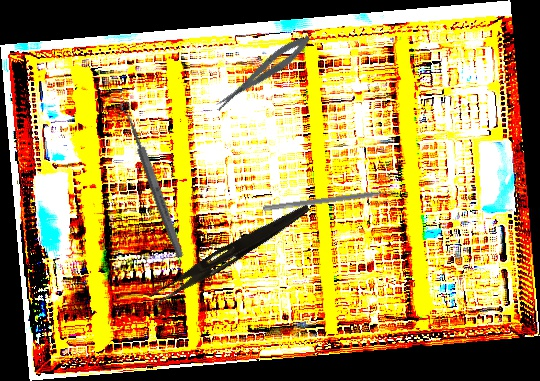Dressing Forceps: (148, 196, 312, 312)
Micro Scissor: (210, 30, 315, 114)
Spatula Surgical: (262, 186, 403, 218)
Surgical Spoon: (119, 100, 186, 259)
